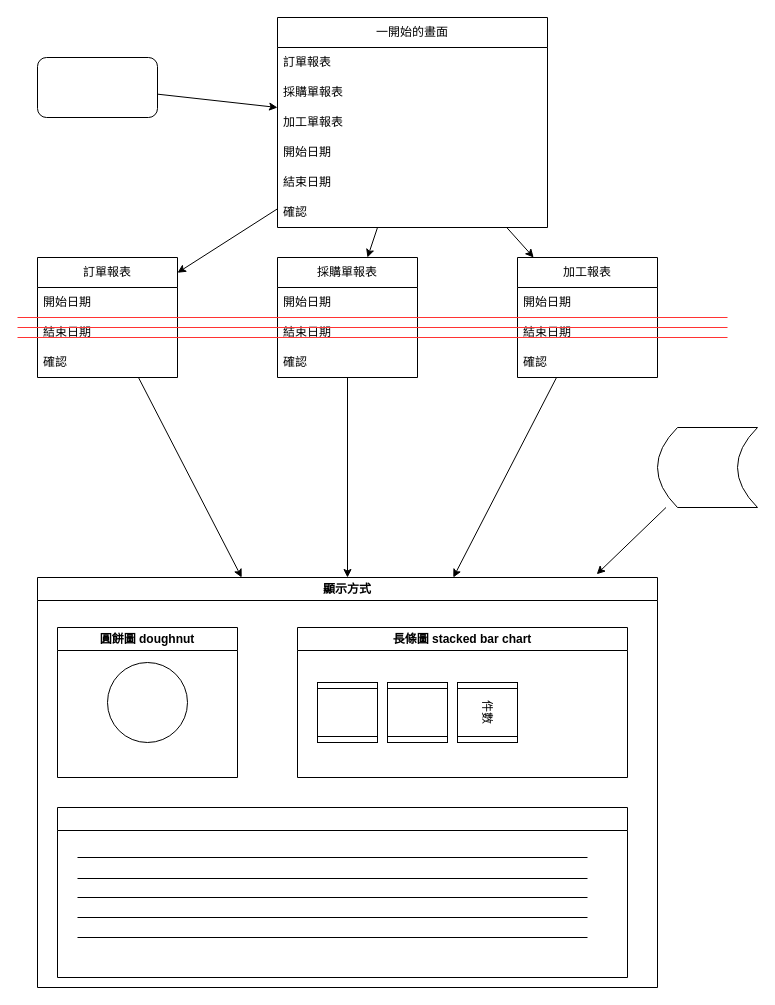
The diagram is 775 pixels wide and 1005 high, and some of its shapes have lost their labels. The shapes that lost their labels are listed below. From the top down, each one's box as (x1, y1, x2, y2) in pixels, then its label:
(36, 56, 158, 118): 登入網頁後
(656, 426, 758, 508): sqlite
(106, 662, 188, 742): 金額
(56, 806, 628, 978): 條列式資料
